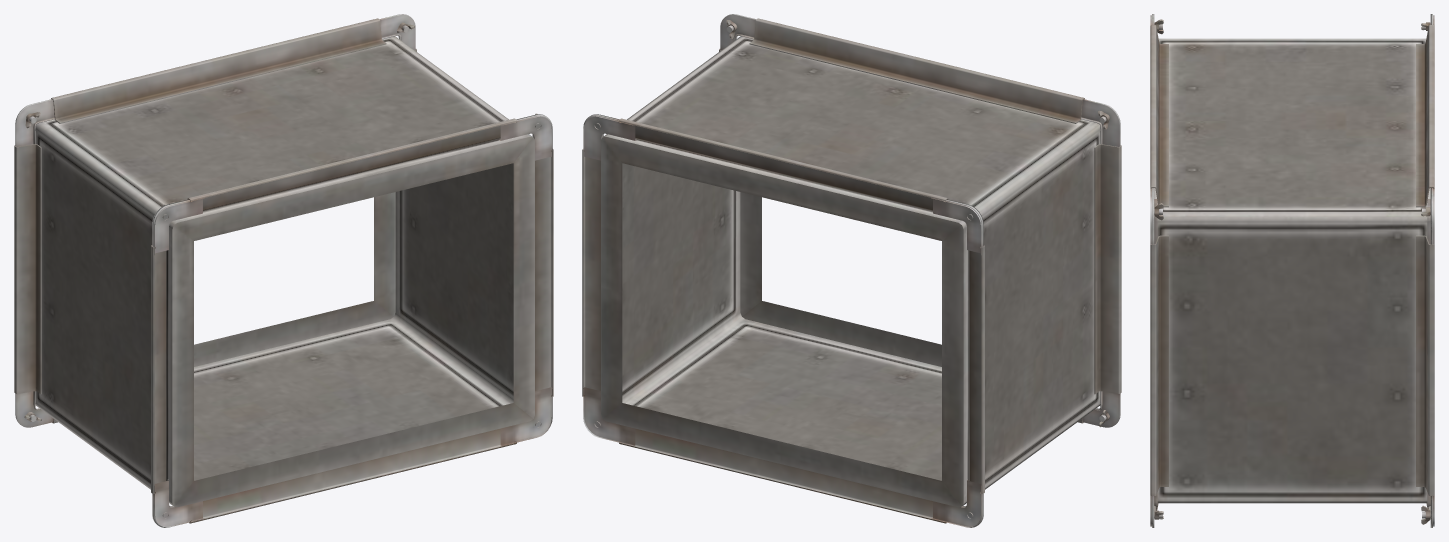
The model's file is straight-short.glb.
3 views of the same model, side by side, from view 1: azimuth 30°, elevation 25°; view 2: azimuth 150°, elevation 25°; view 3: azimuth 270°, elevation 25° (orthographic).
Parts seen in each view (by area): view 1: modular_airduct_rectangular_01_half_01; view 2: modular_airduct_rectangular_01_half_01; view 3: modular_airduct_rectangular_01_half_01.
Boxes of the visible parts, bbox=[...] form: modular_airduct_rectangular_01_half_01: bbox=[14, 14, 553, 527]; modular_airduct_rectangular_01_half_01: bbox=[582, 14, 1121, 527]; modular_airduct_rectangular_01_half_01: bbox=[1150, 14, 1434, 527].
Size of the model in its own units: 0.6634 by 0.5126 by 0.4.
1 material, 1 textured.
